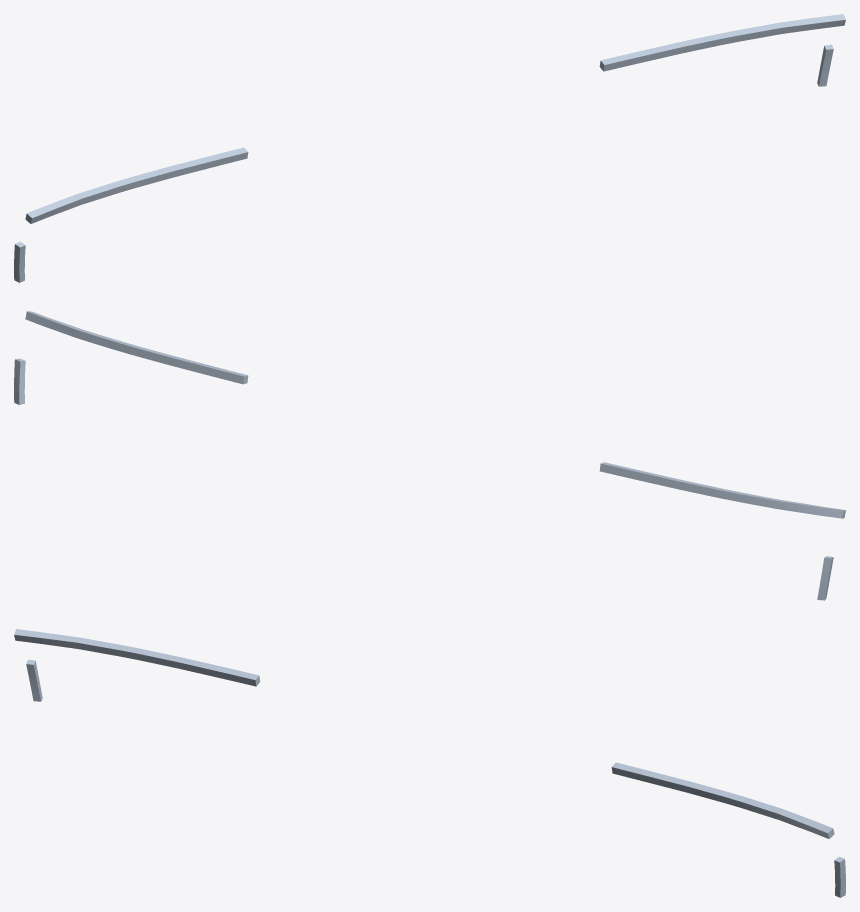
File: red_sports_own_v3_lamp_drl.glb
3 views of the same model, one above another, from view 1: azimuth 30°, elevation 25°; view 2: azimuth 150°, elevation 25°; view 3: azimuth 330°, elevation 25° (orthographic).
Visible parts, largest first — view 1: red_sports_own_v3_lamp_drl; view 2: red_sports_own_v3_lamp_drl; view 3: red_sports_own_v3_lamp_drl.
Part boxes in pixels (left/top/right/bottom): red_sports_own_v3_lamp_drl: left=14, top=14, right=845, bottom=282; red_sports_own_v3_lamp_drl: left=14, top=311, right=845, bottom=600; red_sports_own_v3_lamp_drl: left=14, top=629, right=845, bottom=897.
Size of the model in its own units: 1.63 by 0.1525 by 0.0714.
